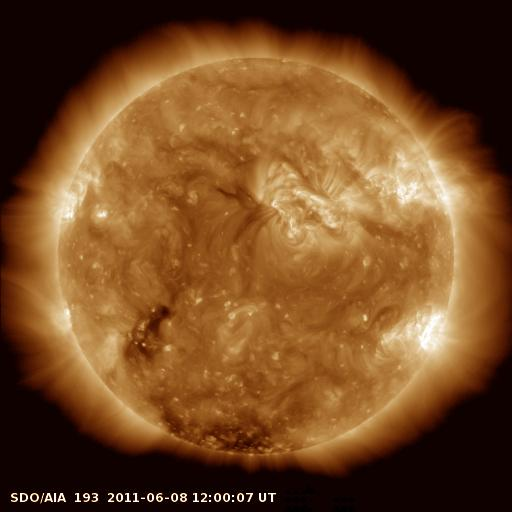coronal_hole: (147, 401, 300, 461), (123, 304, 171, 364)
